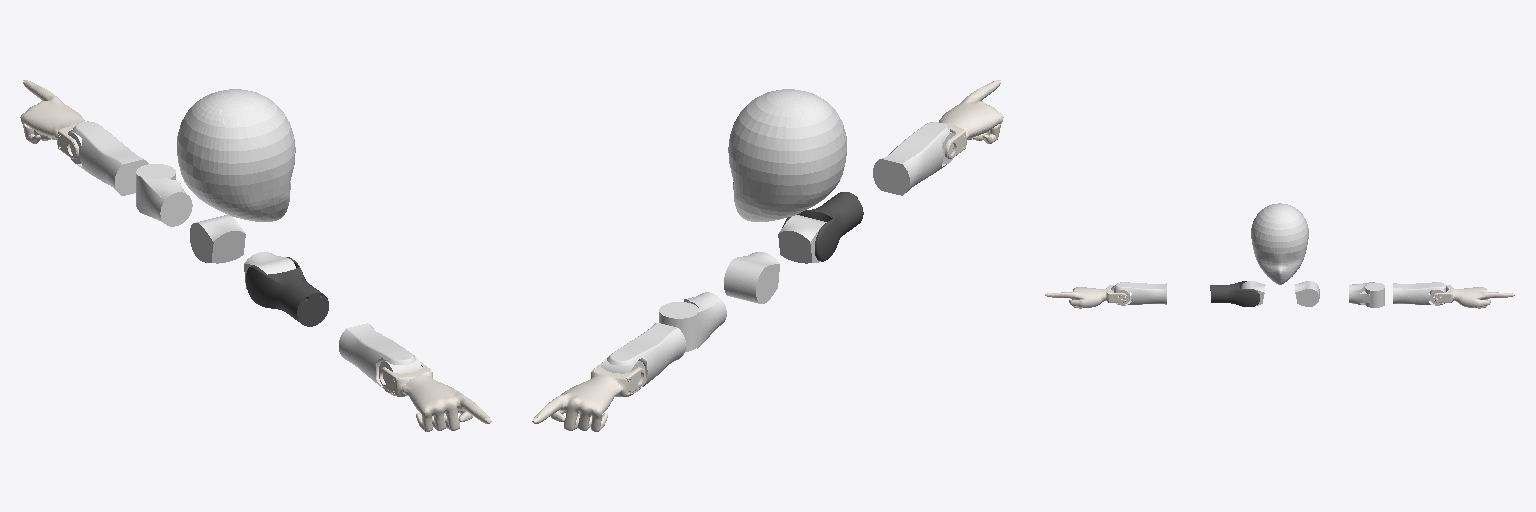
robot.urdf — lite:
<?xml version="1.0" ?>
<!-- Generated using onshape-to-robot -->
<!-- Onshape document_id: e9ee61a2e2678af2088d9f31 -->
<robot name="lite">
  <!-- Link chest -->
  <link name="chest">
    <inertial>
      <origin xyz="0.0229755 1.89075e-06 0.301247" rpy="0 0 0"/>
      <mass value="4.241"/>
      <inertia ixx="0.0293981" ixy="-3.33035e-07" ixz="0.00371359" iyy="0.0293132" iyz="-2.47e-10" izz="0.0103245"/>
    </inertial>
    <!-- Part chest_parts -->
    <collision>
      <origin xyz="0.025 -0 0.29" rpy="0.261799 0 -1.5708"/>
      <geometry>
        <box size="0.08 0.1 0.2"/>
      </geometry>
    </collision>
    <visual>
      <origin xyz="0.0229755 1.89075e-06 0.301247" rpy="0 -0 0"/>
      <geometry>
        <mesh filename="../meshes/chest_visual.stl"/>
      </geometry>
      <material name="chest_parts_material">
        <color rgba="0.914357 0.926071 0.933099 1"/>
      </material>
    </visual>
  </link>
  <!-- Link left_shoulder_pitch -->
  <link name="left_shoulder_pitch">
    <inertial>
      <origin xyz="-6.27e-10 -0.00168619 -0.00682299" rpy="0 0 0"/>
      <mass value="0.375"/>
      <inertia ixx="0.000232695" ixy="7e-12" ixz="2e-12" iyy="0.000233203" iyz="-1.40823e-05" izz="0.000199827"/>
    </inertial>
    <!-- Part left_shoulder_pitch_parts -->
    <visual>
      <origin xyz="-6.27e-10 -0.00168619 -0.00682299" rpy="1.39626 -0 0"/>
      <geometry>
        <mesh filename="../meshes/left_shoulder_pitch_visual.stl"/>
      </geometry>
      <material name="left_shoulder_pitch_parts_material">
        <color rgba="0.933333 0.933333 0.933333 1"/>
      </material>
    </visual>
  </link>
  <!-- Link left_shoulder_roll -->
  <link name="left_shoulder_roll">
    <inertial>
      <origin xyz="-2.43656e-06 0.0799616 1.54812e-07" rpy="0 0 0"/>
      <mass value="0.41"/>
      <inertia ixx="0.000505028" ixy="-5.69e-08" ixz="-1.9756e-08" iyy="0.00019823" iyz="2.659e-09" izz="0.000477612"/>
    </inertial>
    <!-- Part left_shoulder_roll_parts -->
    <visual>
      <origin xyz="-2.43656e-06 0.0799616 1.54812e-07" rpy="0 -1.5708 0"/>
      <geometry>
        <mesh filename="../meshes/left_shoulder_roll_visual.stl"/>
      </geometry>
      <material name="left_shoulder_roll_parts_material">
        <color rgba="0.378862 0.378862 0.378862 1"/>
      </material>
    </visual>
  </link>
  <!-- Link left_shoulder_yaw -->
  <link name="left_shoulder_yaw">
    <inertial>
      <origin xyz="0.00515648 -2.4401e-08 -0.0554418" rpy="0 0 0"/>
      <mass value="0.416"/>
      <inertia ixx="0.000480518" ixy="-9.59e-10" ixz="4.64686e-05" iyy="0.000484791" iyz="1.64e-10" izz="0.00021421"/>
    </inertial>
    <!-- Part left_shoulder_yaw_parts -->
    <collision>
      <origin xyz="0 0 0.03" rpy="0 0 -1.5708"/>
      <geometry>
        <cylinder length="0.08" radius="0.03"/>
      </geometry>
    </collision>
    <visual>
      <origin xyz="0.00515648 -2.4401e-08 -0.0554418" rpy="-1.5708 0 0"/>
      <geometry>
        <mesh filename="../meshes/left_shoulder_yaw_visual.stl"/>
      </geometry>
      <material name="left_shoulder_yaw_parts_material">
        <color rgba="0.933333 0.933333 0.933333 1"/>
      </material>
    </visual>
  </link>
  <!-- Link left_elbow_pitch -->
  <link name="left_elbow_pitch">
    <inertial>
      <origin xyz="-0.00846207 0.0260402 3.13818e-06" rpy="0 0 0"/>
      <mass value="0.1"/>
      <inertia ixx="0.000107182" ixy="7.39361e-06" ixz="-2.484e-09" iyy="8.53959e-05" iyz="5.512e-09" izz="7.35755e-05"/>
    </inertial>
    <!-- Part left_elbow_pitch_parts -->
    <visual>
      <origin xyz="-0.00846207 0.0260402 3.13818e-06" rpy="0 -0 0"/>
      <geometry>
        <mesh filename="../meshes/left_elbow_pitch_visual.stl"/>
      </geometry>
      <material name="left_elbow_pitch_parts_material">
        <color rgba="0.933333 0.933333 0.933333 1"/>
      </material>
    </visual>
  </link>
  <!-- Link left_wrist_yaw -->
  <link name="left_wrist_yaw">
    <inertial>
      <origin xyz="-2.258e-07 0.000140958 -0.0577988" rpy="0 0 0"/>
      <mass value="0.6"/>
      <inertia ixx="0.00091793" ixy="-9.04e-10" ixz="-1.82e-10" iyy="0.000908334" iyz="-9.07002e-06" izz="0.000298004"/>
    </inertial>
    <!-- Part left_wrist_yaw_parts -->
    <collision>
      <origin xyz="-0 0 -0.035" rpy="0 -0 -3.14159"/>
      <geometry>
        <cylinder length="0.08" radius="0.03"/>
      </geometry>
    </collision>
    <visual>
      <origin xyz="-2.258e-07 0.000140958 -0.0577988" rpy="-1.5708 0 0"/>
      <geometry>
        <mesh filename="../meshes/left_wrist_yaw_visual.stl"/>
      </geometry>
      <material name="left_wrist_yaw_parts_material">
        <color rgba="0.933333 0.933333 0.933333 1"/>
      </material>
    </visual>
  </link>
  <!-- Link left_wrist_roll -->
  <link name="left_wrist_roll">
    <inertial>
      <origin xyz="3.48e-10 1e-12 -2.12e-10" rpy="0 0 0"/>
      <mass value="0.25"/>
      <inertia ixx="7.92687e-05" ixy="0" ixz="0" iyy="9.19125e-05" iyz="-6.7e-11" izz="9.04076e-05"/>
    </inertial>
    <!-- Part left_wrist_roll_parts -->
    <visual>
      <origin xyz="3.48e-10 1e-12 -2.12e-10" rpy="0 -0 0"/>
      <geometry>
        <mesh filename="../meshes/left_wrist_roll_visual.stl"/>
      </geometry>
      <material name="left_wrist_roll_parts_material">
        <color rgba="0.933333 0.933333 0.933333 1"/>
      </material>
    </visual>
  </link>
  <!-- Link left_hand -->
  <link name="left_hand">
    <inertial>
      <origin xyz="0.00438016 0.100811 0.00601721" rpy="0 0 0"/>
      <mass value="0.161493"/>
      <inertia ixx="0.000444244" ixy="-3.55583e-07" ixz="-5.78731e-07" iyy="9.49947e-05" iyz="-4.33479e-05" izz="0.000397047"/>
    </inertial>
    <!-- Part left_hand_parts -->
    <collision>
      <origin xyz="-0.007 0.195 0.0225" rpy="1.5708 1.5708 0"/>
      <geometry>
        <cylinder length="0.06" radius="0.006"/>
      </geometry>
    </collision>
    <visual>
      <origin xyz="0.00438016 0.100811 0.00601721" rpy="-0 -1.5708 0"/>
      <geometry>
        <mesh filename="../meshes/left_hand_visual.stl"/>
      </geometry>
      <material name="left_hand_parts_material">
        <color rgba="0.935377 0.912287 0.884907 1"/>
      </material>
    </visual>
  </link>
  <!-- Frame left_finger2_tip (dummy link + fixed joint) -->
  <link name="left_finger2_tip">
    <origin xyz="0 0 0" rpy="0 -0 0"/>
    <inertial>
      <origin xyz="0 0 0" rpy="0 0 0"/>
      <mass value="1e-9"/>
      <inertia ixx="0" ixy="0" ixz="0" iyy="0" iyz="0" izz="0"/>
    </inertial>
  </link>
  <joint name="left_finger2_tip_frame" type="fixed">
    <origin xyz="-0.007 0.225 0.0225" rpy="-1.5708 0 1.5708"/>
    <parent link="left_hand"/>
    <child link="left_finger2_tip"/>
    <axis xyz="0 0 0"/>
  </joint>
  <!-- Joint from left_wrist_roll to left_hand -->
  <joint name="left_wrist_pitch" type="revolute">
    <origin xyz="-0 0 0" rpy="0 1.5708 0"/>
    <parent link="left_wrist_roll"/>
    <child link="left_hand"/>
    <axis xyz="0 0 1"/>
    <limit effort="100" velocity="100" lower="-0.785398" upper="0.785398"/>
    <joint_properties friction="0.1"/>
  </joint>
  <!-- Joint from left_wrist_yaw to left_wrist_roll -->
  <joint name="left_wrist_roll" type="revolute">
    <origin xyz="-0 -0 -0.135" rpy="-1.5708 -0 0"/>
    <parent link="left_wrist_yaw"/>
    <child link="left_wrist_roll"/>
    <axis xyz="0 0 1"/>
    <limit effort="100" velocity="100" lower="-0.698132" upper="0.698132"/>
    <joint_properties friction="0.1"/>
  </joint>
  <!-- Joint from left_elbow_pitch to left_wrist_yaw -->
  <joint name="left_wrist_yaw" type="revolute">
    <origin xyz="-0.01 0.055 0" rpy="1.5708 -0 -0"/>
    <parent link="left_elbow_pitch"/>
    <child link="left_wrist_yaw"/>
    <axis xyz="0 0 1"/>
    <limit effort="100" velocity="100" lower="-1.5708" upper="1.5708"/>
    <joint_properties friction="0.1"/>
  </joint>
  <!-- Joint from left_shoulder_yaw to left_elbow_pitch -->
  <joint name="left_elbow_pitch" type="revolute">
    <origin xyz="0.01 -0 -0.08" rpy="-1.5708 -0 -0"/>
    <parent link="left_shoulder_yaw"/>
    <child link="left_elbow_pitch"/>
    <axis xyz="0 0 1"/>
    <limit effort="100" velocity="100" lower="-2.35619" upper="0"/>
    <joint_properties friction="0.1"/>
  </joint>
  <!-- Joint from left_shoulder_roll to left_shoulder_yaw -->
  <joint name="left_shoulder_yaw" type="revolute">
    <origin xyz="0 0.12 -0" rpy="1.5708 -1.5708 0"/>
    <parent link="left_shoulder_roll"/>
    <child link="left_shoulder_yaw"/>
    <axis xyz="0 0 1"/>
    <limit effort="100" velocity="100" lower="-1.5708" upper="1.5708"/>
    <joint_properties friction="0.1"/>
  </joint>
  <!-- Joint from left_shoulder_pitch to left_shoulder_roll -->
  <joint name="left_shoulder_roll" type="revolute">
    <origin xyz="0 0 -0" rpy="1.5708 0.174533 1.5708"/>
    <parent link="left_shoulder_pitch"/>
    <child link="left_shoulder_roll"/>
    <axis xyz="0 0 1"/>
    <limit effort="100" velocity="100" lower="-1.5708" upper="1.91986"/>
    <joint_properties friction="0.1"/>
  </joint>
  <!-- Joint from chest to left_shoulder_pitch -->
  <joint name="left_shoulder_pitch" type="revolute">
    <origin xyz="0 0.09 0.39" rpy="-1.39626 -0 -0"/>
    <parent link="chest"/>
    <child link="left_shoulder_pitch"/>
    <axis xyz="0 0 1"/>
    <limit effort="100" velocity="100" lower="-3.14159" upper="0.785398"/>
    <joint_properties friction="0.1"/>
  </joint>
  <!-- Link right_shoulder_pitch -->
  <link name="right_shoulder_pitch">
    <inertial>
      <origin xyz="6.27e-10 -0.00168619 0.00682299" rpy="0 0 0"/>
      <mass value="0.375"/>
      <inertia ixx="0.000232695" ixy="-7e-12" ixz="2e-12" iyy="0.000233203" iyz="1.40823e-05" izz="0.000199827"/>
    </inertial>
    <!-- Part right_shoulder_pitch_parts -->
    <visual>
      <origin xyz="6.27e-10 -0.00168619 0.00682299" rpy="1.74533 -0 0"/>
      <geometry>
        <mesh filename="../meshes/right_shoulder_pitch_visual.stl"/>
      </geometry>
      <material name="right_shoulder_pitch_parts_material">
        <color rgba="0.933333 0.933333 0.933333 1"/>
      </material>
    </visual>
  </link>
  <!-- Link right_shoulder_roll -->
  <link name="right_shoulder_roll">
    <inertial>
      <origin xyz="4.46254e-05 0.0800344 1.5407e-07" rpy="0 0 0"/>
      <mass value="0.41073"/>
      <inertia ixx="0.00050631" ixy="-6.4898e-07" ixz="1.9746e-08" iyy="0.000198696" iyz="3.013e-09" izz="0.000479254"/>
    </inertial>
    <!-- Part right_shoulder_roll_parts -->
    <visual>
      <origin xyz="4.46254e-05 0.0800344 1.5407e-07" rpy="3.14159 -1.5708 0"/>
      <geometry>
        <mesh filename="../meshes/right_shoulder_roll_visual.stl"/>
      </geometry>
      <material name="right_shoulder_roll_parts_material">
        <color rgba="0.379848 0.379848 0.379848 1"/>
      </material>
    </visual>
  </link>
  <!-- Link right_shoulder_yaw -->
  <link name="right_shoulder_yaw">
    <inertial>
      <origin xyz="0.00515641 2.57303e-07 -0.0554411" rpy="0 0 0"/>
      <mass value="0.416"/>
      <inertia ixx="0.000480531" ixy="1.235e-09" ixz="4.64697e-05" iyy="0.000484803" iyz="-5.174e-09" izz="0.00021421"/>
    </inertial>
    <!-- Part right_shoulder_yaw_parts -->
    <collision>
      <origin xyz="-0 0 0.03" rpy="-0 -0 -1.5708"/>
      <geometry>
        <cylinder length="0.08" radius="0.03"/>
      </geometry>
    </collision>
    <visual>
      <origin xyz="0.00515641 2.57303e-07 -0.0554411" rpy="1.5708 -0 0"/>
      <geometry>
        <mesh filename="../meshes/right_shoulder_yaw_visual.stl"/>
      </geometry>
      <material name="right_shoulder_yaw_parts_material">
        <color rgba="0.933333 0.933333 0.933333 1"/>
      </material>
    </visual>
  </link>
  <!-- Link right_elbow_pitch -->
  <link name="right_elbow_pitch">
    <inertial>
      <origin xyz="-0.00846033 0.0260389 8.87366e-07" rpy="0 0 0"/>
      <mass value="0.1"/>
      <inertia ixx="0.000107188" ixy="7.39689e-06" ixz="6.006e-09" iyy="8.53982e-05" iyz="-1.394e-09" izz="7.35763e-05"/>
    </inertial>
    <!-- Part right_elbow_pitch_parts -->
    <visual>
      <origin xyz="-0.00846033 0.0260389 8.87366e-07" rpy="3.14159 -0 -0"/>
      <geometry>
        <mesh filename="../meshes/right_elbow_pitch_visual.stl"/>
      </geometry>
      <material name="right_elbow_pitch_parts_material">
        <color rgba="0.933333 0.933333 0.933333 1"/>
      </material>
    </visual>
  </link>
  <!-- Link right_wrist_yaw -->
  <link name="right_wrist_yaw">
    <inertial>
      <origin xyz="1.36083e-07 0.000140746 -0.0578009" rpy="0 0 0"/>
      <mass value="0.6"/>
      <inertia ixx="0.000917949" ixy="5.04e-10" ixz="6.425e-09" iyy="0.000908305" iyz="-9.06542e-06" izz="0.000297983"/>
    </inertial>
    <!-- Part right_wrist_yaw_parts -->
    <collision>
      <origin xyz="-0 -0 -0.035" rpy="0 -0 -3.14159"/>
      <geometry>
        <cylinder length="0.08" radius="0.03"/>
      </geometry>
    </collision>
    <visual>
      <origin xyz="1.36083e-07 0.000140746 -0.0578009" rpy="1.5708 0 0"/>
      <geometry>
        <mesh filename="../meshes/right_wrist_yaw_visual.stl"/>
      </geometry>
      <material name="right_wrist_yaw_parts_material">
        <color rgba="0.933333 0.933333 0.933333 1"/>
      </material>
    </visual>
  </link>
  <!-- Link right_wrist_roll -->
  <link name="right_wrist_roll">
    <inertial>
      <origin xyz="4.084e-09 -2e-12 -2.02e-10" rpy="0 0 0"/>
      <mass value="0.25"/>
      <inertia ixx="7.92688e-05" ixy="-0" ixz="0" iyy="9.19094e-05" iyz="2.493e-09" izz="9.04084e-05"/>
    </inertial>
    <!-- Part right_wrist_roll_parts -->
    <visual>
      <origin xyz="4.084e-09 -2e-12 -2.02e-10" rpy="3.14159 0 0"/>
      <geometry>
        <mesh filename="../meshes/right_wrist_roll_visual.stl"/>
      </geometry>
      <material name="right_wrist_roll_parts_material">
        <color rgba="0.933333 0.933333 0.933333 1"/>
      </material>
    </visual>
  </link>
  <!-- Link right_hand -->
  <link name="right_hand">
    <inertial>
      <origin xyz="-0.00438014 0.100811 0.00601723" rpy="0 0 0"/>
      <mass value="0.161493"/>
      <inertia ixx="0.000444244" ixy="3.55742e-07" ixz="5.78424e-07" iyy="9.4995e-05" iyz="-4.3348e-05" izz="0.000397047"/>
    </inertial>
    <!-- Part right_hand_parts -->
    <collision>
      <origin xyz="0.007 0.195 0.0225" rpy="1.5708 -1.5708 0"/>
      <geometry>
        <cylinder length="0.06" radius="0.006"/>
      </geometry>
    </collision>
    <visual>
      <origin xyz="-0.00438014 0.100811 0.00601723" rpy="3.14159 -1.5708 0"/>
      <geometry>
        <mesh filename="../meshes/right_hand_visual.stl"/>
      </geometry>
      <material name="right_hand_parts_material">
        <color rgba="0.935377 0.912287 0.884907 1"/>
      </material>
    </visual>
  </link>
  <!-- Frame right_finger2_tip (dummy link + fixed joint) -->
  <link name="right_finger2_tip">
    <origin xyz="0 0 0" rpy="0 -0 0"/>
    <inertial>
      <origin xyz="0 0 0" rpy="0 0 0"/>
      <mass value="1e-9"/>
      <inertia ixx="0" ixy="0" ixz="0" iyy="0" iyz="0" izz="0"/>
    </inertial>
  </link>
  <joint name="right_finger2_tip_frame" type="fixed">
    <origin xyz="0.007 0.225 0.0225" rpy="1.5708 0 1.5708"/>
    <parent link="right_hand"/>
    <child link="right_finger2_tip"/>
    <axis xyz="0 0 0"/>
  </joint>
  <!-- Joint from right_wrist_roll to right_hand -->
  <joint name="right_wrist_pitch" type="revolute">
    <origin xyz="-0 0 0" rpy="-0 1.5708 0"/>
    <parent link="right_wrist_roll"/>
    <child link="right_hand"/>
    <axis xyz="0 0 1"/>
    <limit effort="100" velocity="100" lower="-0.785398" upper="0.785398"/>
    <joint_properties friction="0.1"/>
  </joint>
  <!-- Joint from right_wrist_yaw to right_wrist_roll -->
  <joint name="right_wrist_roll" type="revolute">
    <origin xyz="0 0 -0.135" rpy="-1.5708 0 0"/>
    <parent link="right_wrist_yaw"/>
    <child link="right_wrist_roll"/>
    <axis xyz="0 0 1"/>
    <limit effort="100" velocity="100" lower="-0.698132" upper="0.698132"/>
    <joint_properties friction="0.1"/>
  </joint>
  <!-- Joint from right_elbow_pitch to right_wrist_yaw -->
  <joint name="right_wrist_yaw" type="revolute">
    <origin xyz="-0.01 0.055 -0" rpy="1.5708 0 -0"/>
    <parent link="right_elbow_pitch"/>
    <child link="right_wrist_yaw"/>
    <axis xyz="0 0 1"/>
    <limit effort="100" velocity="100" lower="-1.5708" upper="1.5708"/>
    <joint_properties friction="0.1"/>
  </joint>
  <!-- Joint from right_shoulder_yaw to right_elbow_pitch -->
  <joint name="right_elbow_pitch" type="revolute">
    <origin xyz="0.01 0 -0.08" rpy="-1.5708 -0 0"/>
    <parent link="right_shoulder_yaw"/>
    <child link="right_elbow_pitch"/>
    <axis xyz="0 0 1"/>
    <limit effort="100" velocity="100" lower="-2.35619" upper="0"/>
    <joint_properties friction="0.1"/>
  </joint>
  <!-- Joint from right_shoulder_roll to right_shoulder_yaw -->
  <joint name="right_shoulder_yaw" type="revolute">
    <origin xyz="-0 0.12 -0" rpy="1.5708 -1.5708 0"/>
    <parent link="right_shoulder_roll"/>
    <child link="right_shoulder_yaw"/>
    <axis xyz="0 0 1"/>
    <limit effort="100" velocity="100" lower="-1.5708" upper="1.5708"/>
    <joint_properties friction="0.1"/>
  </joint>
  <!-- Joint from right_shoulder_pitch to right_shoulder_roll -->
  <joint name="right_shoulder_roll" type="revolute">
    <origin xyz="0 0 0" rpy="-1.5708 0.174533 -1.5708"/>
    <parent link="right_shoulder_pitch"/>
    <child link="right_shoulder_roll"/>
    <axis xyz="0 0 1"/>
    <limit effort="100" velocity="100" lower="-1.91986" upper="1.5708"/>
    <joint_properties friction="0.1"/>
  </joint>
  <!-- Joint from chest to right_shoulder_pitch -->
  <joint name="right_shoulder_pitch" type="revolute">
    <origin xyz="-0 -0.09 0.39" rpy="-1.74533 -0 -0"/>
    <parent link="chest"/>
    <child link="right_shoulder_pitch"/>
    <axis xyz="0 0 1"/>
    <limit effort="100" velocity="100" lower="-3.14159" upper="0.785398"/>
    <joint_properties friction="0.1"/>
  </joint>
  <!-- Link neck_yaw -->
  <link name="neck_yaw">
    <inertial>
      <origin xyz="-0 0 0.03" rpy="0 0 0"/>
      <mass value="0.0779115"/>
      <inertia ixx="1.55823e-05" ixy="-0" ixz="-0" iyy="2.40227e-05" iyz="-0" izz="2.40227e-05"/>
    </inertial>
    <!-- Part neck_yaw_parts -->
    <visual>
      <origin xyz="0 0 0.03" rpy="-0 0 -0"/>
      <geometry>
        <mesh filename="../meshes/neck_yaw_visual.stl"/>
      </geometry>
      <material name="neck_yaw_parts_material">
        <color rgba="0.933333 0.933333 0.933333 1"/>
      </material>
    </visual>
  </link>
  <!-- Link neck_roll -->
  <link name="neck_roll">
    <inertial>
      <origin xyz="0 0.03 0" rpy="0 0 0"/>
      <mass value="0.0779115"/>
      <inertia ixx="1.55823e-05" ixy="-0" ixz="-0" iyy="2.40227e-05" iyz="0" izz="2.40227e-05"/>
    </inertial>
    <!-- Part neck_roll_parts -->
    <visual>
      <origin xyz="0 0.03 0" rpy="-1.5708 -1.5708 0"/>
      <geometry>
        <mesh filename="../meshes/neck_roll_visual.stl"/>
      </geometry>
      <material name="neck_roll_parts_material">
        <color rgba="0.933333 0.933333 0.933333 1"/>
      </material>
    </visual>
  </link>
  <!-- Link head -->
  <link name="head">
    <inertial>
      <origin xyz="0.00134973 0.0584846 -5.43e-10" rpy="0 0 0"/>
      <mass value="4.7098"/>
      <inertia ixx="0.0192792" ixy="-0.00180799" ixz="-7.2e-11" iyy="0.0157942" iyz="-3e-11" izz="0.0201095"/>
    </inertial>
    <!-- Part head_parts -->
    <collision>
      <origin xyz="-0 0.05 -0" rpy="-1.5708 -1.5708 0"/>
      <geometry>
        <cylinder length="0.03" radius="0.09"/>
      </geometry>
    </collision>
    <visual>
      <origin xyz="0.00134973 0.0584846 -5.43e-10" rpy="1.5708 -0 -3.14159"/>
      <geometry>
        <mesh filename="../meshes/head_visual.stl"/>
      </geometry>
      <material name="head_parts_material">
        <color rgba="0.933333 0.933333 0.933333 1"/>
      </material>
    </visual>
  </link>
  <!-- Joint from neck_roll to head -->
  <joint name="neck_pitch" type="revolute">
    <origin xyz="0 0.03 -0" rpy="0 1.5708 0"/>
    <parent link="neck_roll"/>
    <child link="head"/>
    <axis xyz="0 0 1"/>
    <limit effort="100" velocity="100" lower="-0.523599" upper="0.523599"/>
    <joint_properties friction="0.1"/>
  </joint>
  <!-- Joint from neck_yaw to neck_roll -->
  <joint name="neck_roll" type="revolute">
    <origin xyz="0 -0 0.03" rpy="1.5708 0 1.5708"/>
    <parent link="neck_yaw"/>
    <child link="neck_roll"/>
    <axis xyz="0 0 1"/>
    <limit effort="100" velocity="100" lower="-0.523599" upper="0.523599"/>
    <joint_properties friction="0.1"/>
  </joint>
  <!-- Joint from chest to neck_yaw -->
  <joint name="neck_yaw" type="revolute">
    <origin xyz="-0.01 -0 0.45" rpy="0 -0 -0"/>
    <parent link="chest"/>
    <child link="neck_yaw"/>
    <axis xyz="0 0 1"/>
    <limit effort="100" velocity="100" lower="-0.785398" upper="0.785398"/>
    <joint_properties friction="0.1"/>
  </joint>
</robot>

--- Render facts (derived) ---
The picture shows the robot from 3 angles, left to right: view 1: azimuth 30°, elevation 25°; view 2: azimuth 150°, elevation 25°; view 3: azimuth 270°, elevation 25°; orthographic projection.
Model lite with 20 links and 19 joints (17 revolute, 2 fixed), rooted at chest, posed all joints at 0.
Links seen in each view (by area): view 1: head, right_hand, right_shoulder_roll, left_wrist_yaw, left_shoulder_yaw, left_hand, right_wrist_yaw, left_shoulder_pitch, right_shoulder_pitch; view 2: head, left_hand, right_wrist_yaw, right_hand, left_wrist_yaw, left_shoulder_yaw, left_shoulder_pitch, right_shoulder_roll, right_shoulder_pitch; view 3: head, right_hand, left_hand, right_shoulder_roll, left_wrist_yaw, right_wrist_yaw, left_shoulder_yaw, left_shoulder_pitch.
Link boxes in pixels (bbox=[...]): head: bbox=[177, 89, 295, 221]; right_hand: bbox=[379, 362, 491, 431]; right_shoulder_roll: bbox=[246, 257, 328, 326]; left_wrist_yaw: bbox=[73, 121, 148, 195]; left_shoulder_yaw: bbox=[136, 164, 192, 226]; left_hand: bbox=[20, 80, 84, 158]; right_wrist_yaw: bbox=[339, 323, 415, 396]; left_shoulder_pitch: bbox=[190, 215, 245, 263]; right_shoulder_pitch: bbox=[244, 252, 295, 288]; head: bbox=[728, 89, 846, 221]; left_hand: bbox=[532, 362, 644, 431]; right_wrist_yaw: bbox=[873, 122, 949, 195]; right_hand: bbox=[930, 80, 1003, 158]; left_wrist_yaw: bbox=[607, 323, 685, 396]; left_shoulder_yaw: bbox=[659, 292, 726, 351]; left_shoulder_pitch: bbox=[724, 252, 779, 303]; right_shoulder_roll: bbox=[782, 192, 863, 261]; right_shoulder_pitch: bbox=[778, 215, 826, 263]; head: bbox=[1251, 203, 1308, 284]; right_hand: bbox=[1045, 285, 1127, 308]; left_hand: bbox=[1432, 285, 1514, 308]; right_shoulder_roll: bbox=[1210, 281, 1259, 306]; left_wrist_yaw: bbox=[1393, 282, 1445, 305]; right_wrist_yaw: bbox=[1115, 282, 1166, 305]; left_shoulder_yaw: bbox=[1349, 282, 1384, 307]; left_shoulder_pitch: bbox=[1294, 281, 1319, 306].
Bounding box of the posed robot: 0.1851 × 1.43 × 0.3267 m (x, y, z).
Meshes: 18 distinct files referenced, 12 mesh visuals loaded (12 binary STL); not drawn: 6 (reference not matched to a file when rendering).
